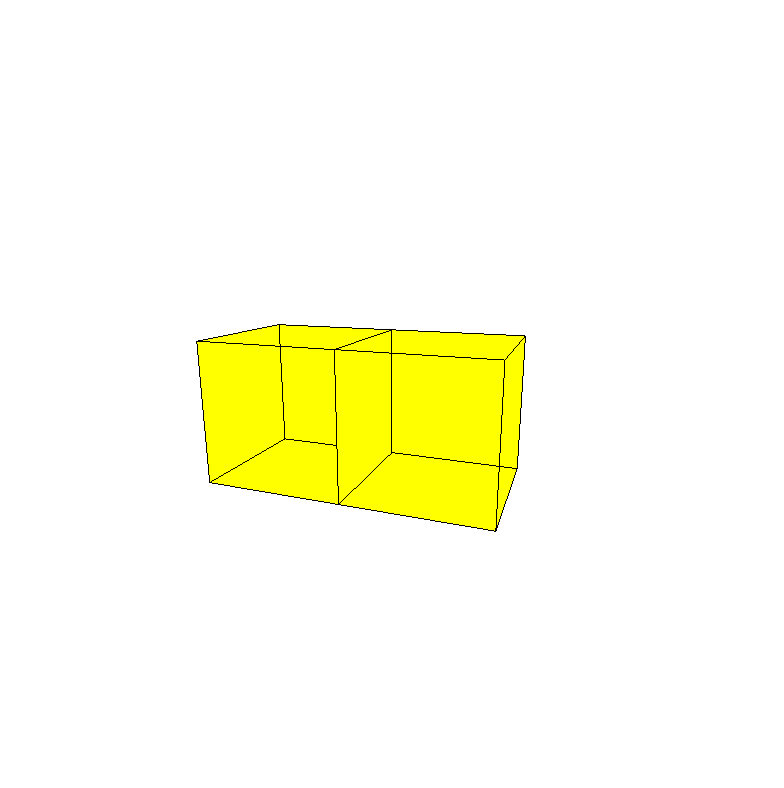YellowYellow: (193, 320, 528, 536)
